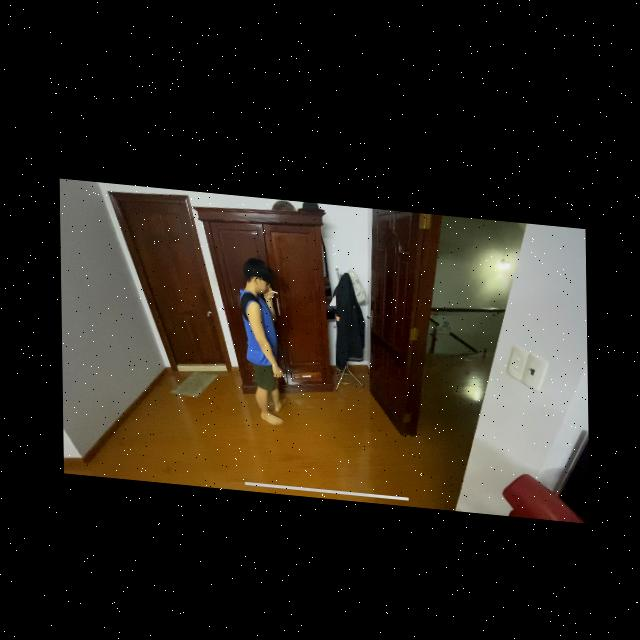cigarette: (268, 284, 277, 287)
